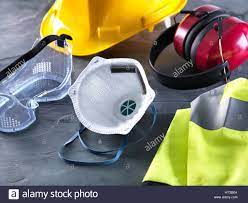Helmet: (51, 1, 150, 51)
Jacket: (175, 92, 248, 190)
Mask: (79, 57, 150, 159)
